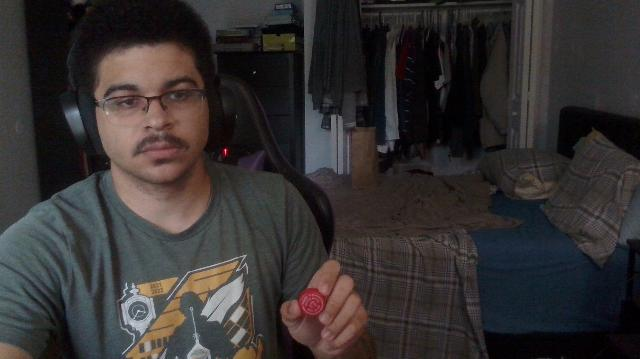cap: (299, 288, 325, 318)
